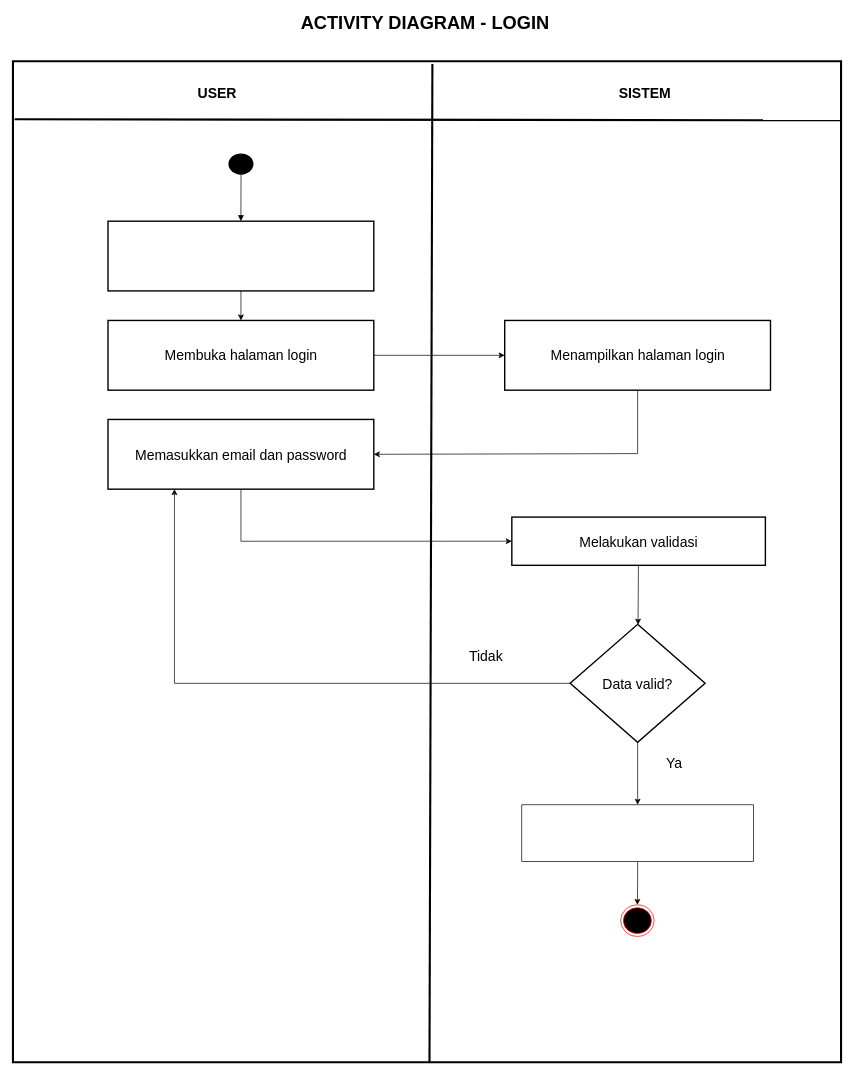
This 854x1076 diagram has some shape labels left out. The shapes that lost their labels are listed below. From the top down, each one's centre as x and y in pixels, then its label:
At (240,255): "Membuka halaman awal".
At (637,832): "Menampilkan dashboard sesuai role".
